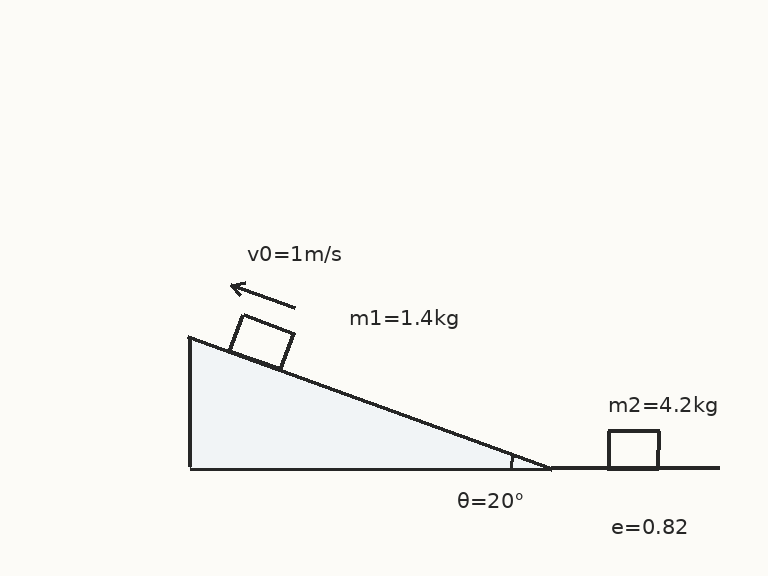block: (228, 312, 295, 371), (605, 429, 661, 470)
ramp: (187, 334, 553, 470)
